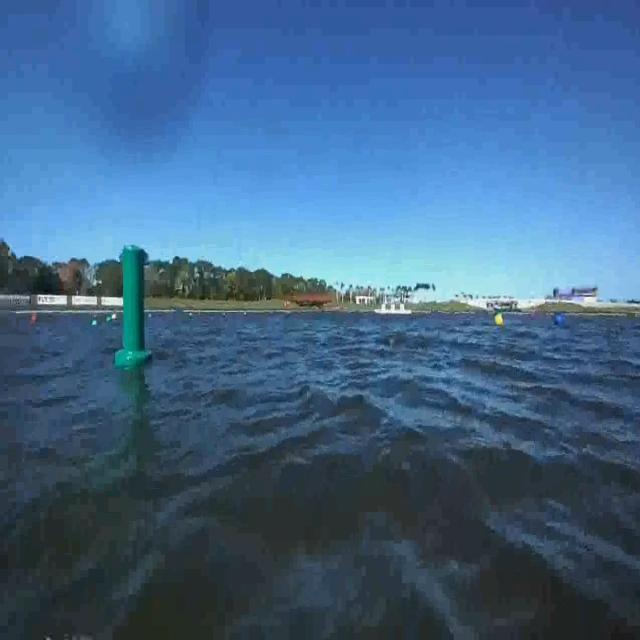blue-buoy: (555, 312, 563, 328)
green-column-buoy: (116, 244, 152, 369)
yellow-buoy: (494, 311, 504, 328)
